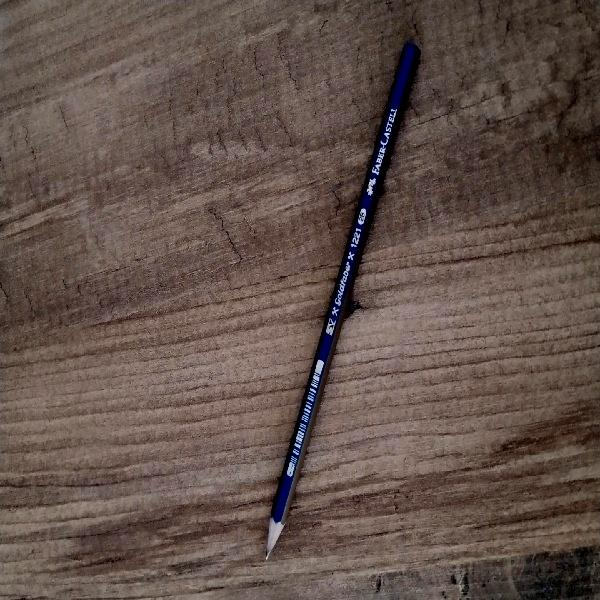pencil: (267, 42, 419, 557)
